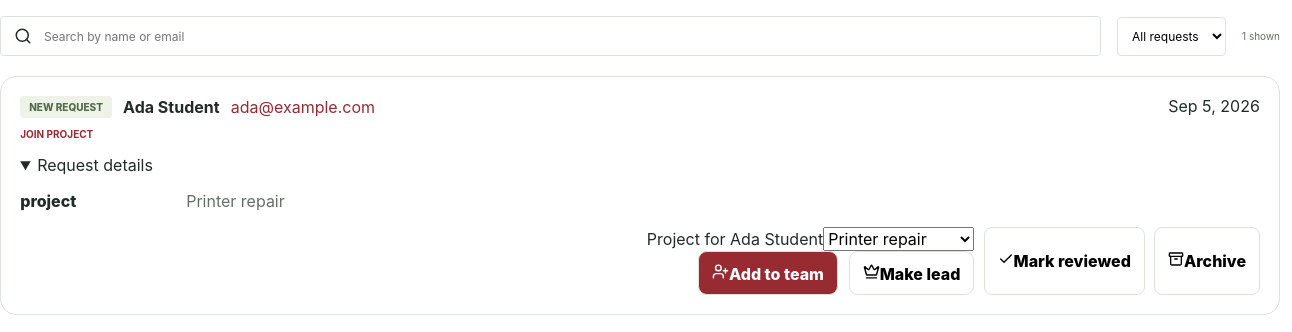
it: adds public project interest as a regular team member by default
Click the button "Add to team": (768, 273) [698,251,838,295]
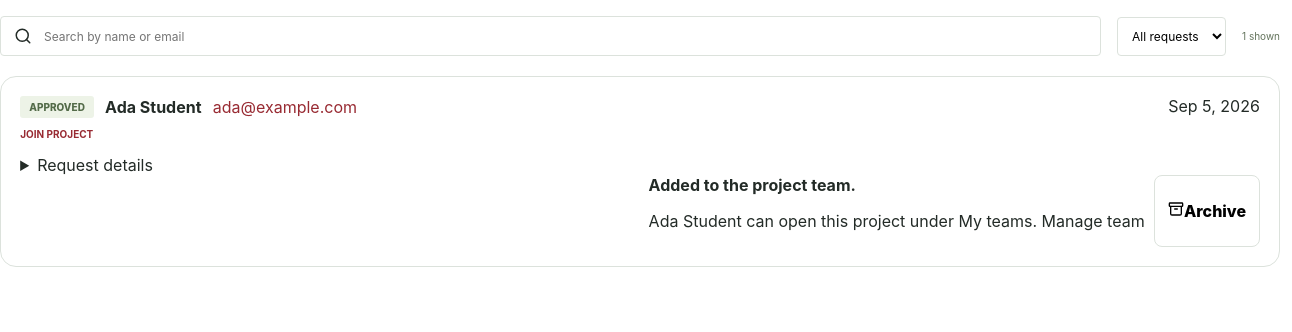
Result: the text "Added to the project team." is shown at [649,175,856,195]
